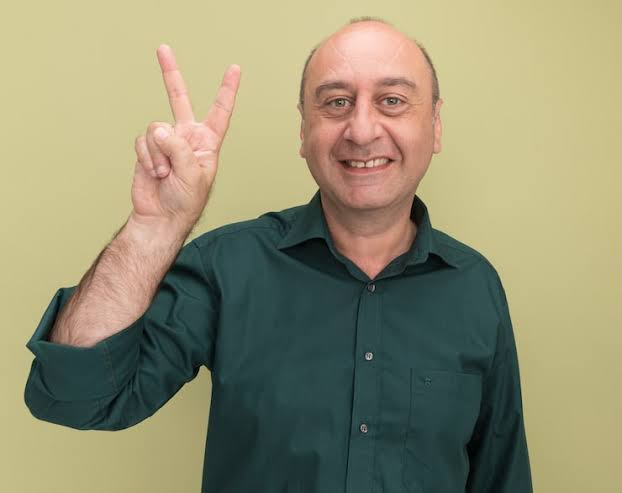peace_sign: (128, 42, 243, 223)
